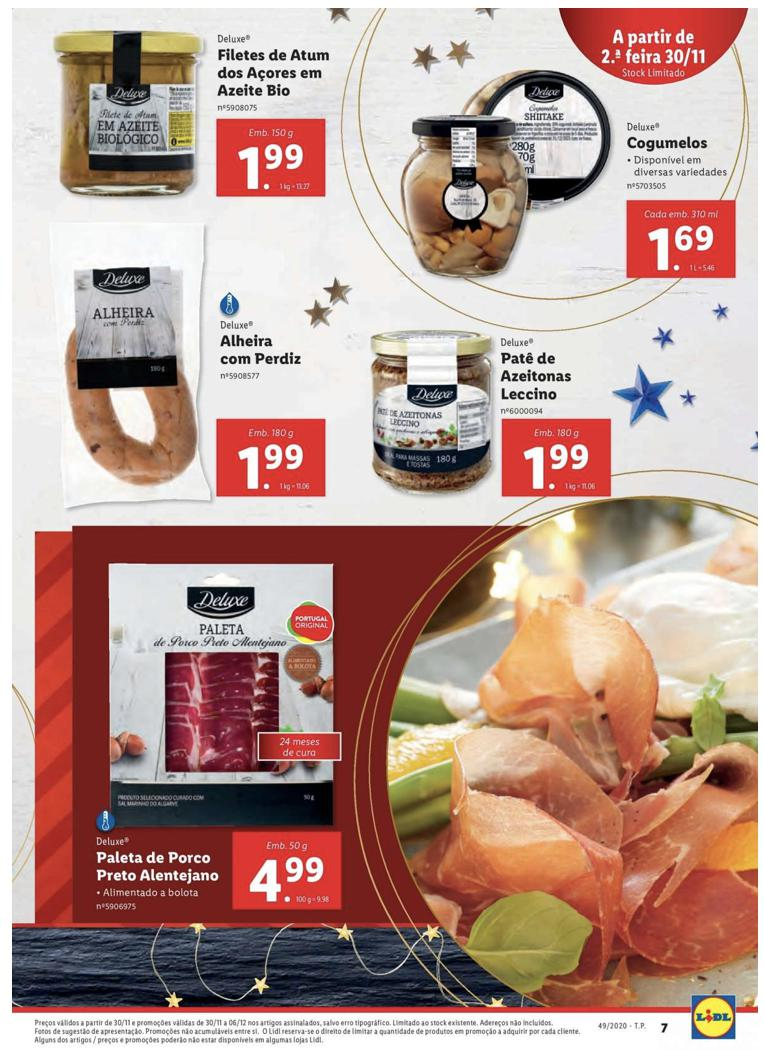name: (215, 44, 333, 98), (95, 848, 224, 887), (498, 350, 583, 401), (214, 331, 304, 373), (624, 131, 713, 155)
price: (519, 438, 592, 495), (233, 142, 315, 191), (248, 855, 328, 904), (239, 438, 304, 492), (646, 225, 715, 274)
product: (83, 547, 348, 920), (43, 220, 344, 501), (391, 66, 731, 285), (23, 20, 344, 205), (344, 331, 637, 501)
